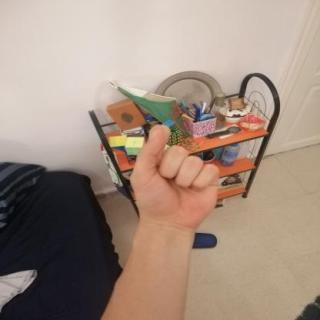FAA: (117, 117, 233, 235)
